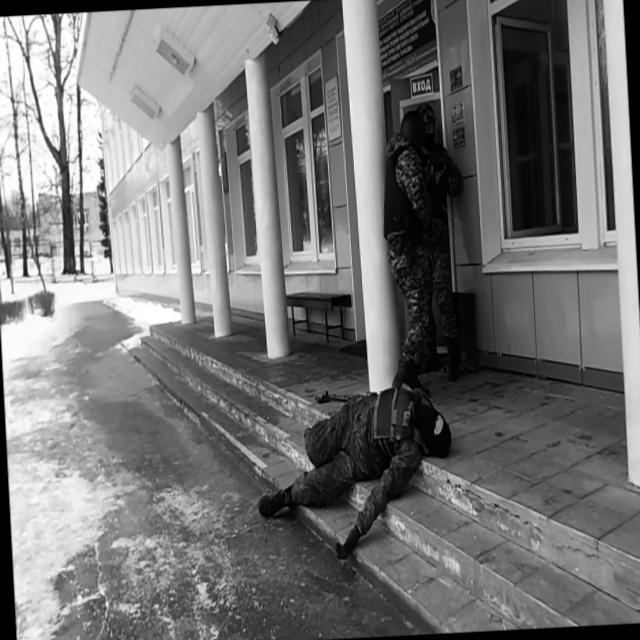gun: (420, 141, 459, 181), (401, 229, 419, 269)
person: (253, 380, 458, 566)
person with a gun: (408, 100, 476, 380), (378, 107, 441, 392)
